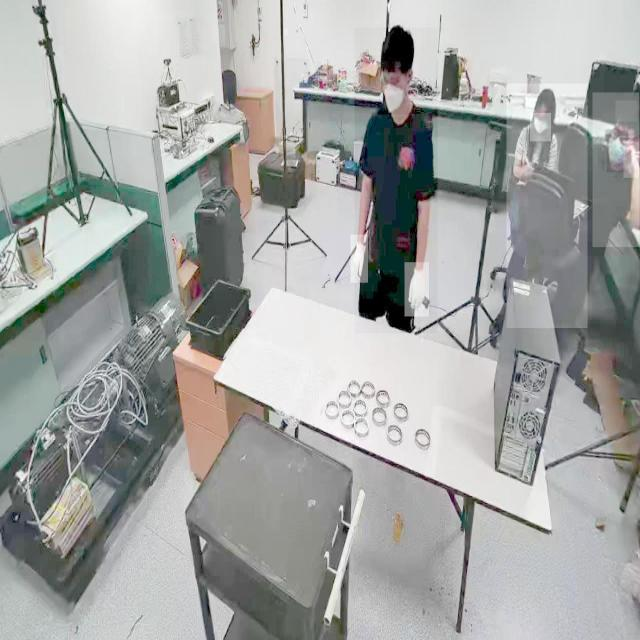face_mask: (378, 68, 410, 114), (606, 130, 628, 172), (530, 113, 551, 141)
hand_glove: (404, 262, 430, 318), (351, 234, 368, 284)
hand_noglove: (624, 142, 640, 179)
head_nohelmet: (381, 22, 416, 62), (536, 84, 556, 113), (616, 100, 638, 122)
person: (354, 28, 438, 334), (506, 83, 588, 329), (592, 92, 640, 248)
